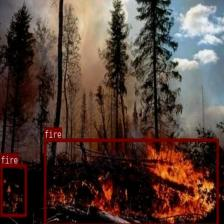fire: (43, 137, 217, 224), (0, 164, 26, 216)
